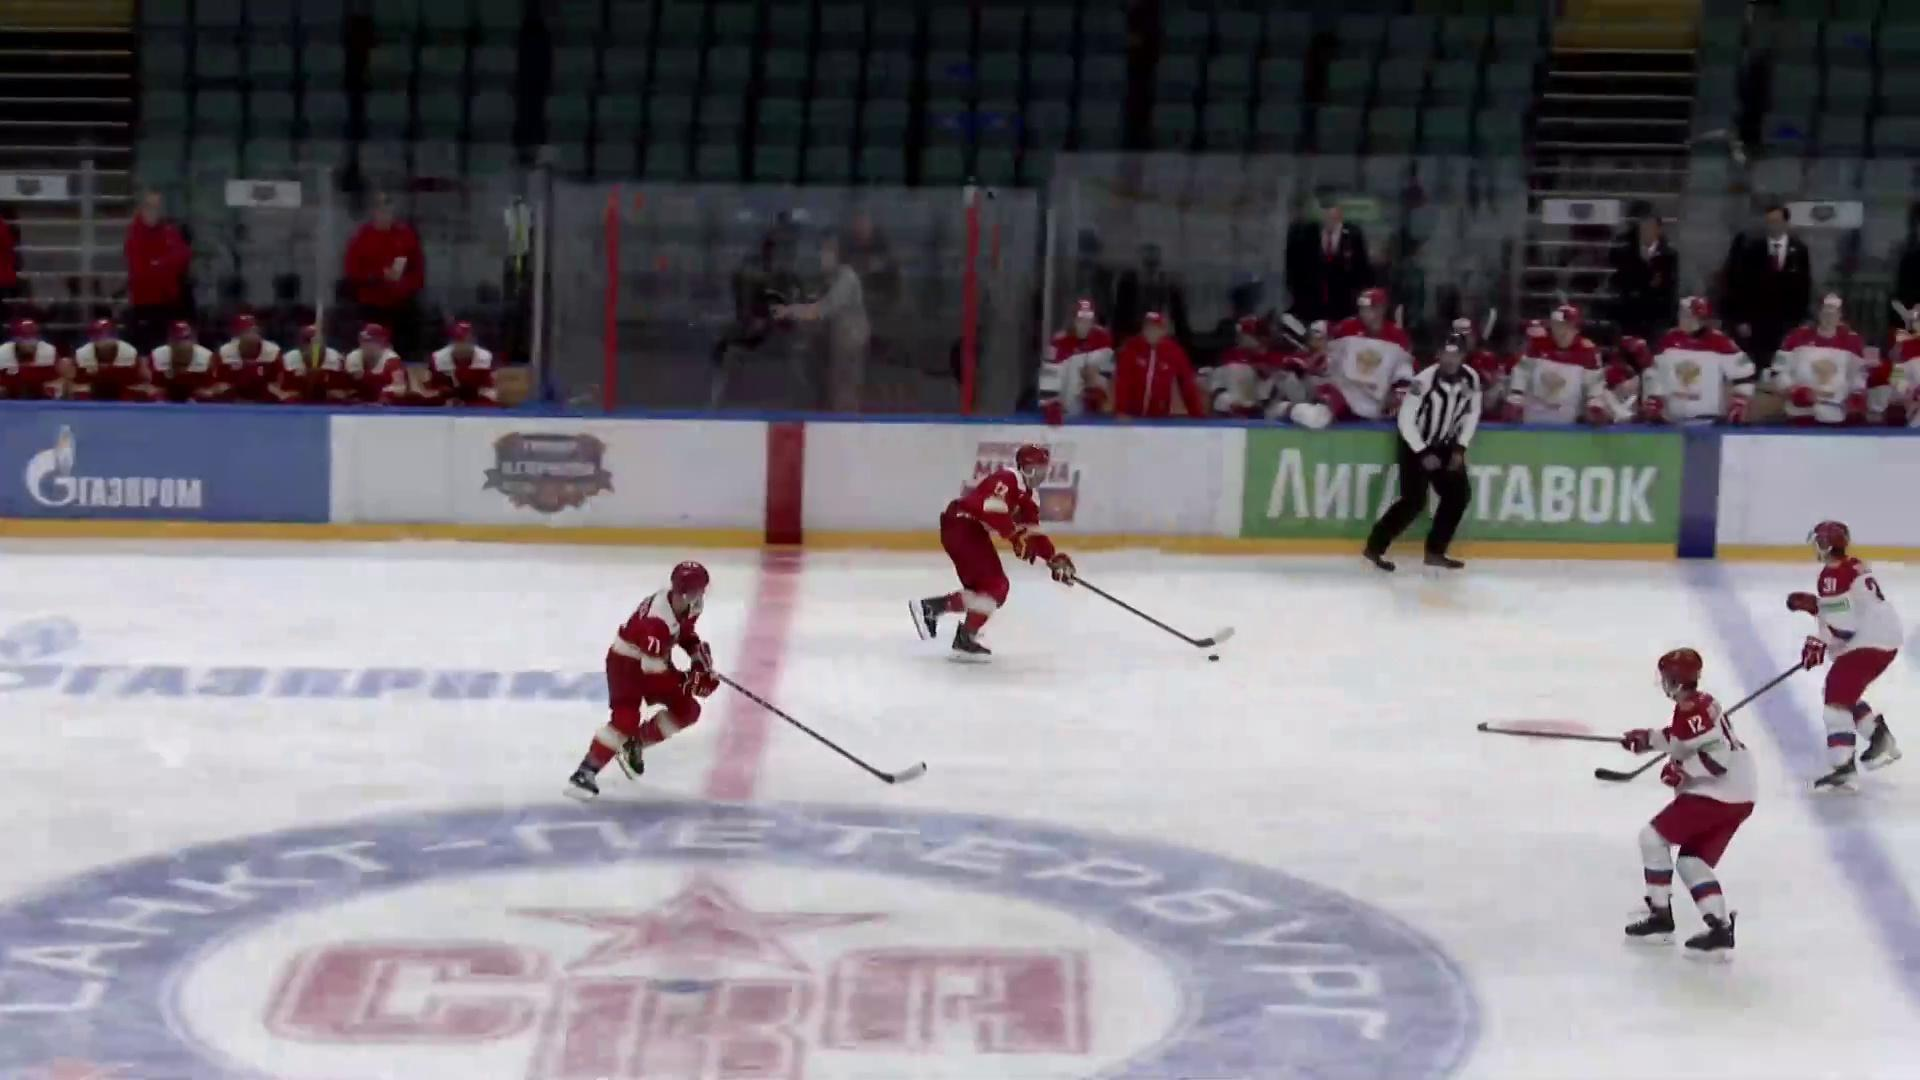ball: (1205, 653, 1222, 665)
